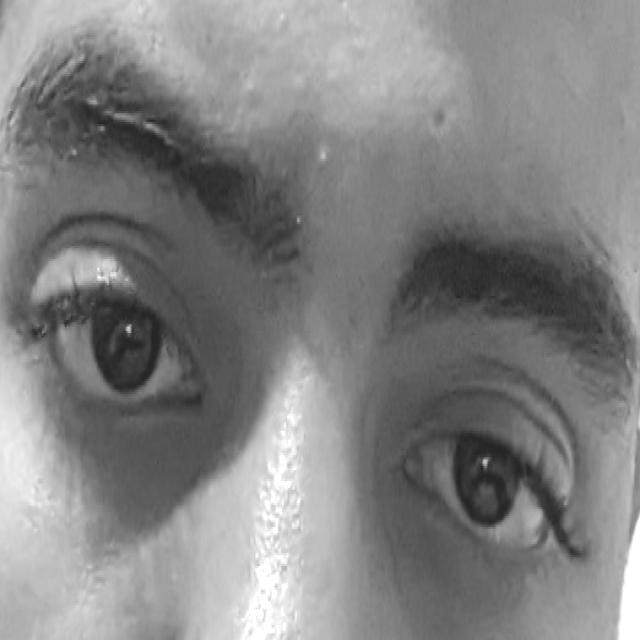real: (18, 88, 616, 626)
